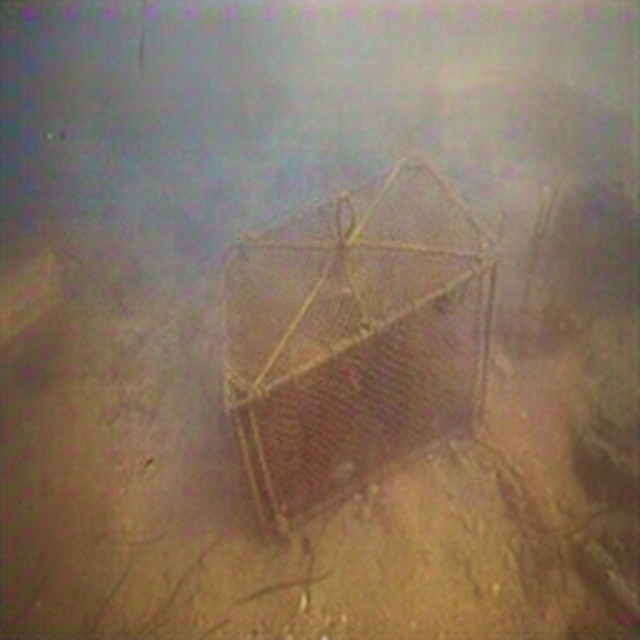mine: (217, 152, 503, 544)
